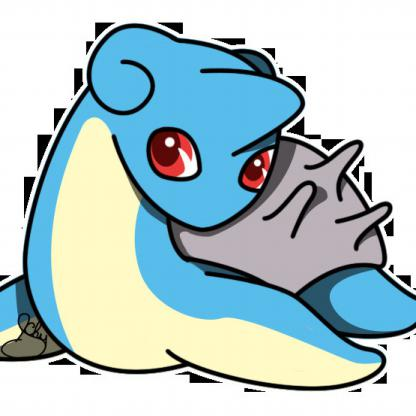Lapras: (1, 22, 416, 396)
